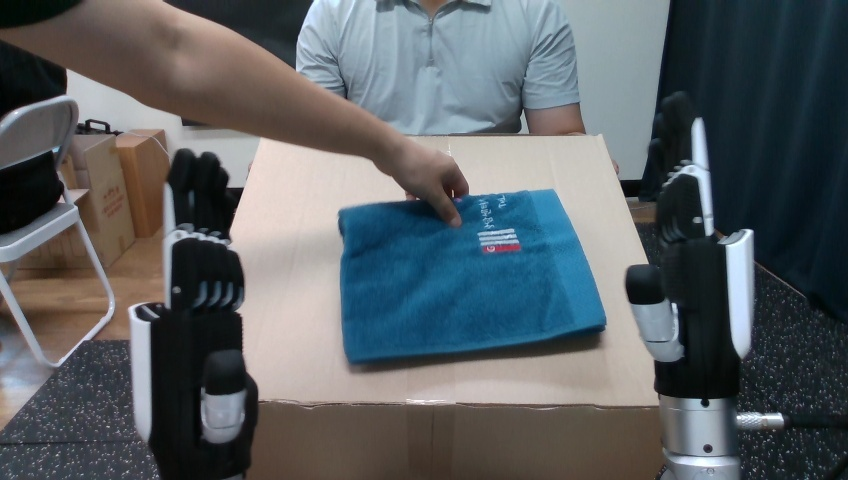left robot arm: (0, 0, 467, 226), (625, 118, 784, 479)
left robot hand: (625, 118, 784, 479), (378, 136, 468, 226)
right robot arm: (0, 0, 467, 226), (625, 118, 784, 479)
right robot hand: (378, 136, 468, 226)
